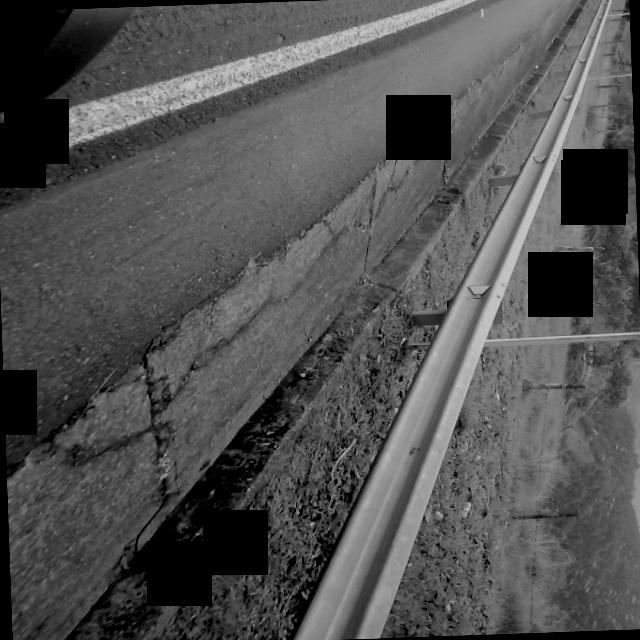DITCH: (0, 0, 629, 640), (0, 0, 615, 640)
